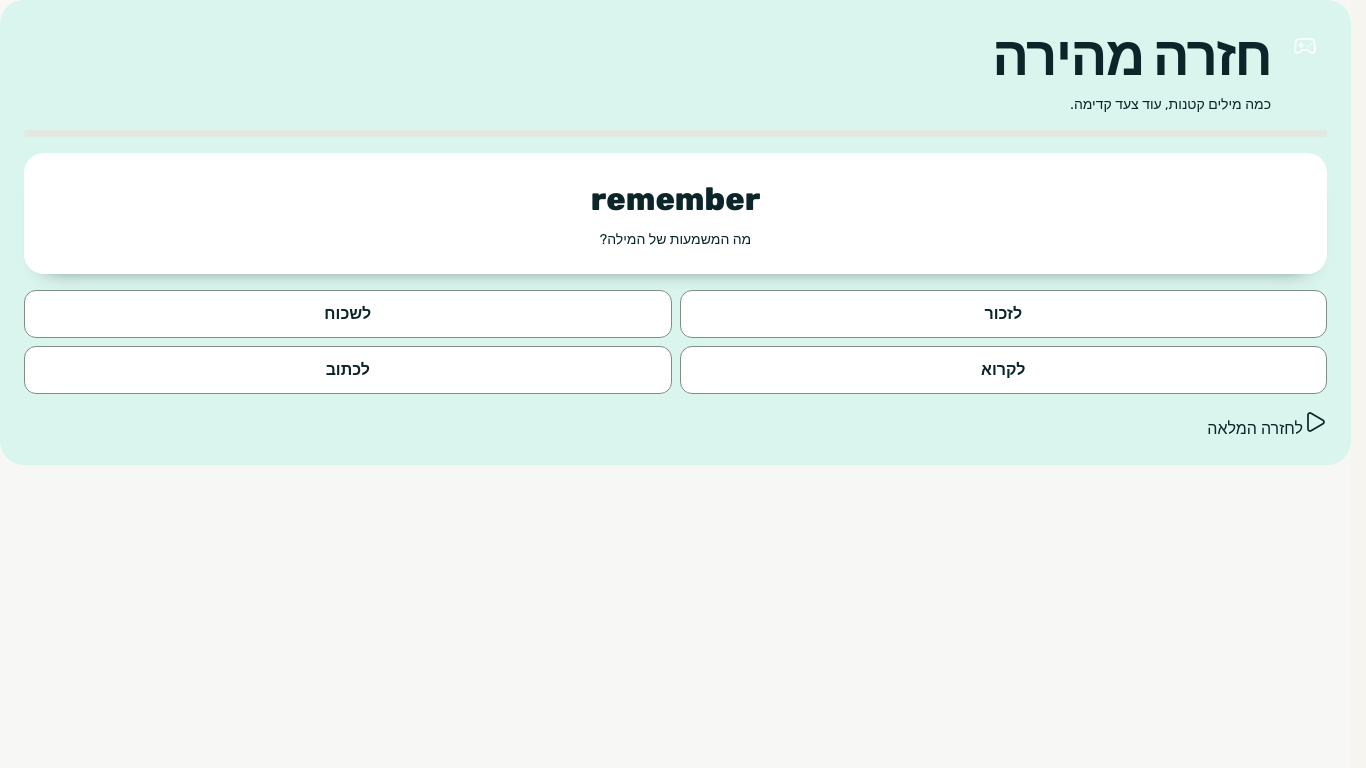
it: dashboard quick review › retains the final receipt on close failure and retries closing without submitting another answer
Click the button "לזכור" at (1003, 314), box [680,290,1327,338]
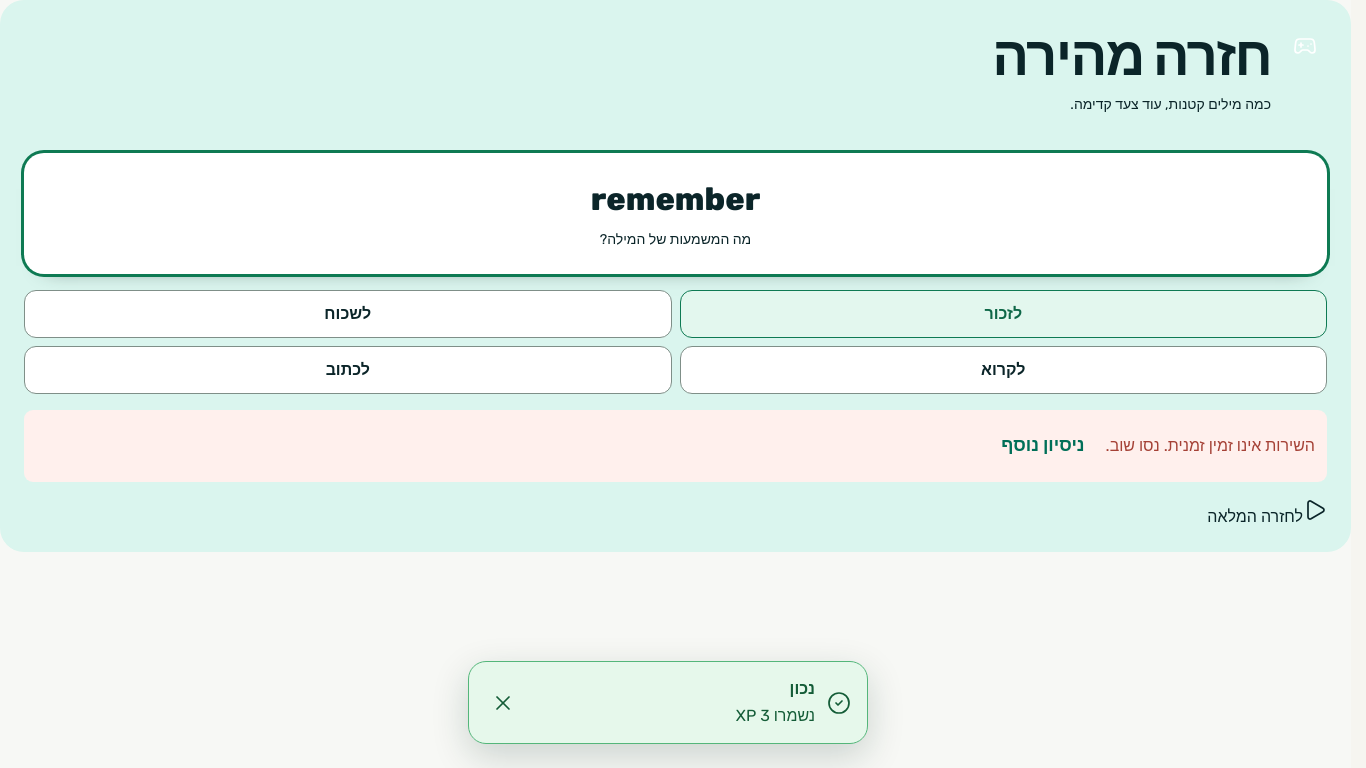
Check: the button "לזכור" is disabled, box [680,290,1327,338]
Click the button "ניסיון נוסף" at (1043, 446), box [980,420,1106,472]
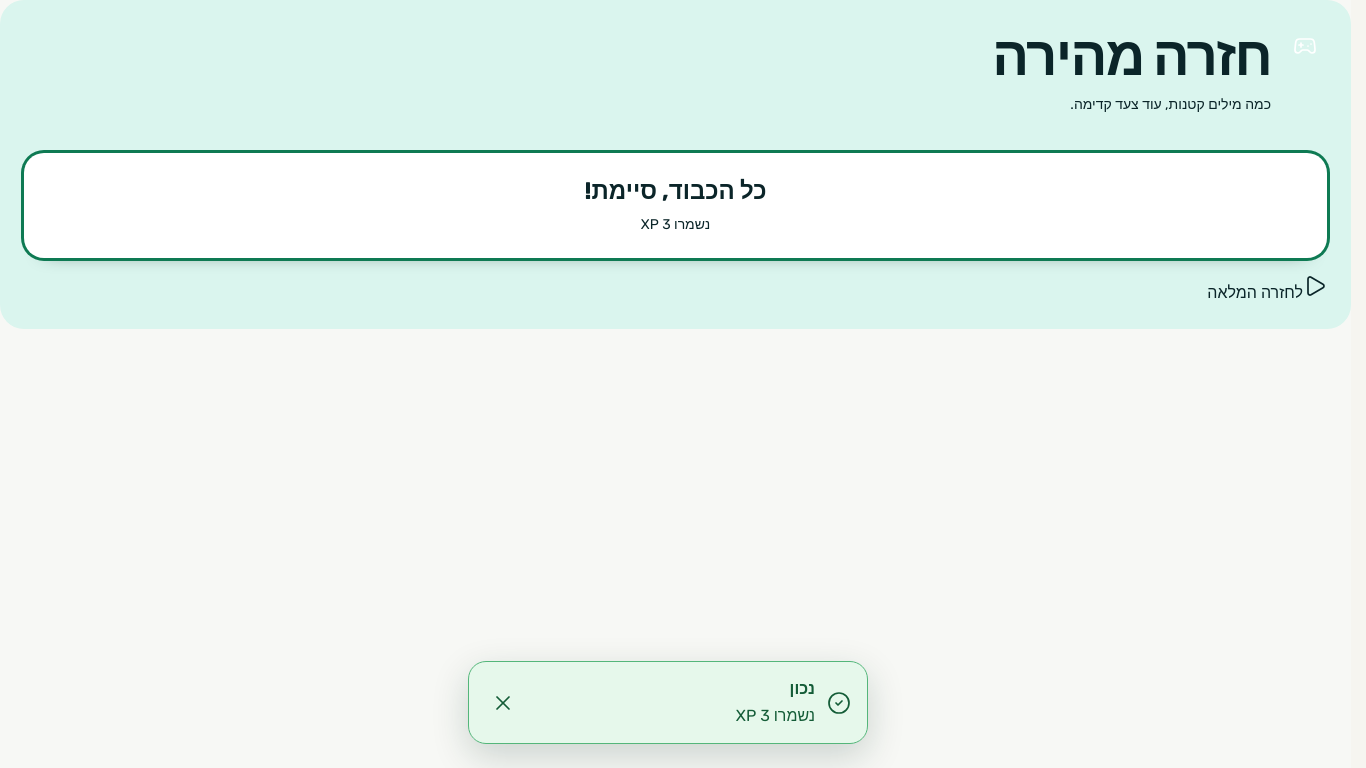
Check: the heading "כל הכבוד, סיימת!" is shown, box [584,177,766,205]
